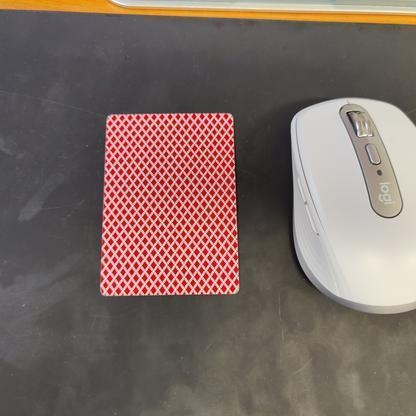card: (92, 101, 247, 304)
